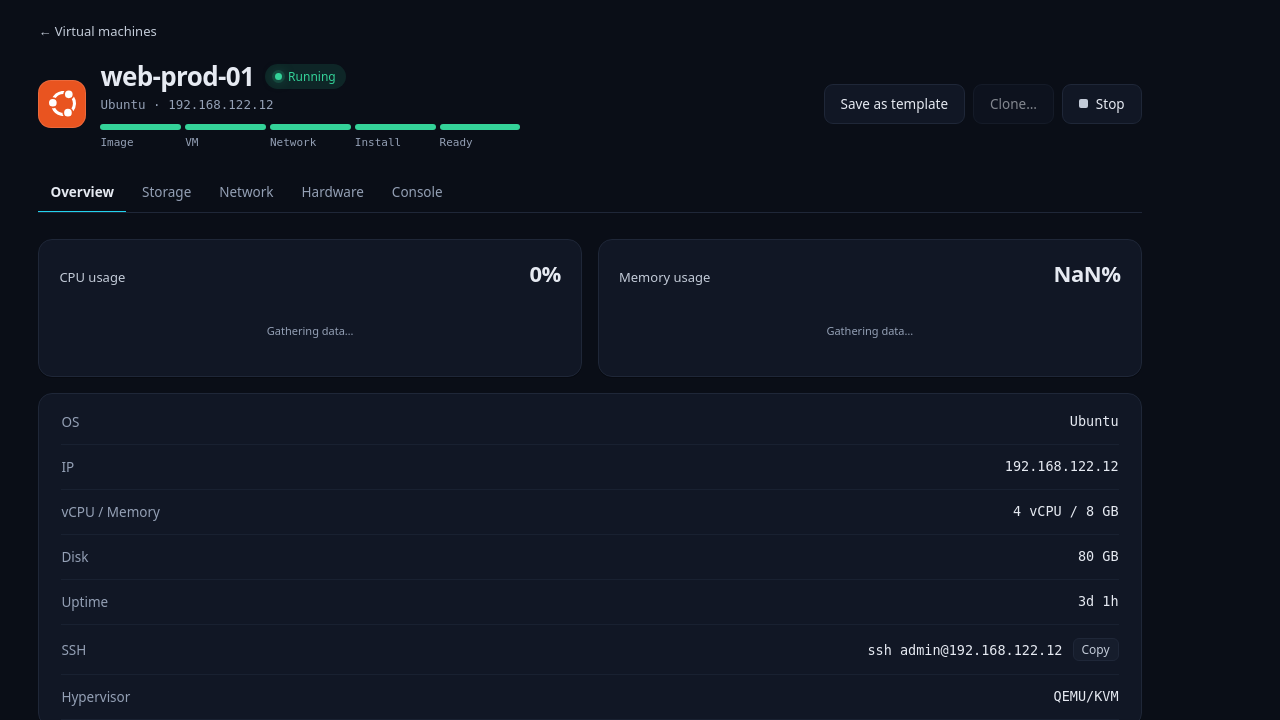
VMDetail › reports a failed snapshot restore instead of silently reverting the button
This screenshot has width=1280, height=720.
Later steps or results of the test are not shown.
Click the tab "Storage".
click(167, 193)  # box [130,173,203,213]
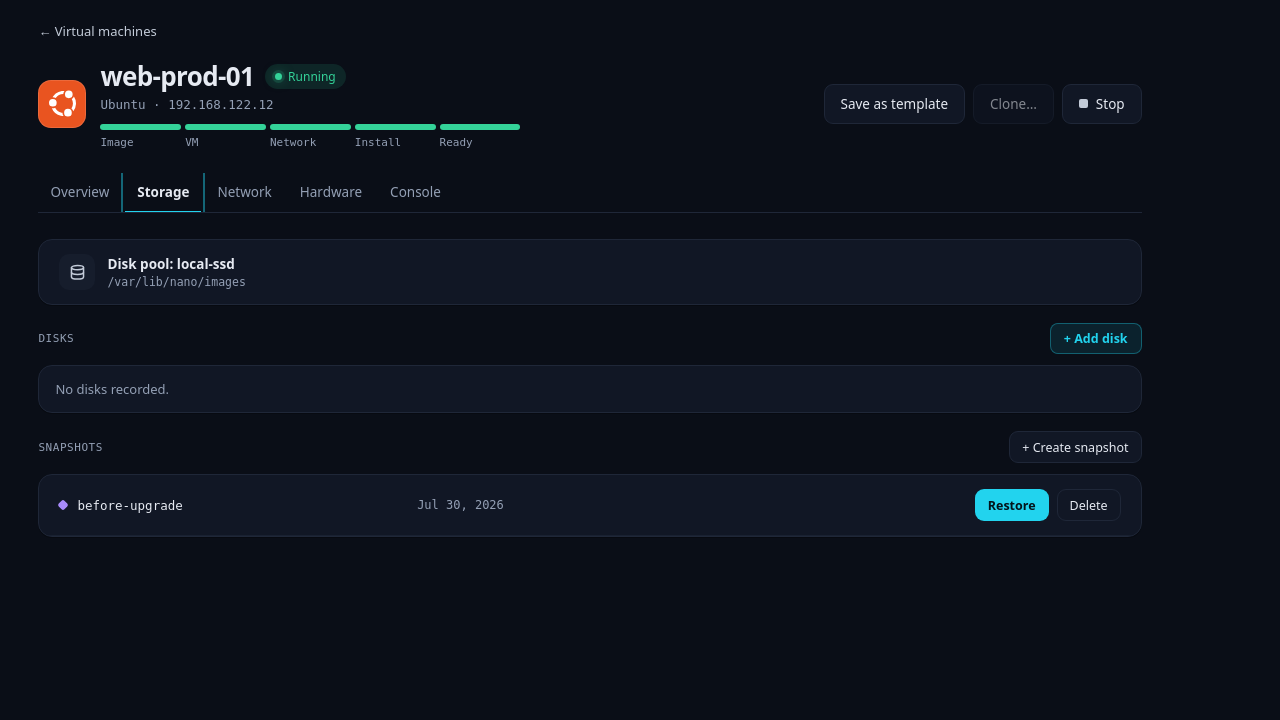
Expected: the text "before-upgrade" is shown, [77,498,183,512]
